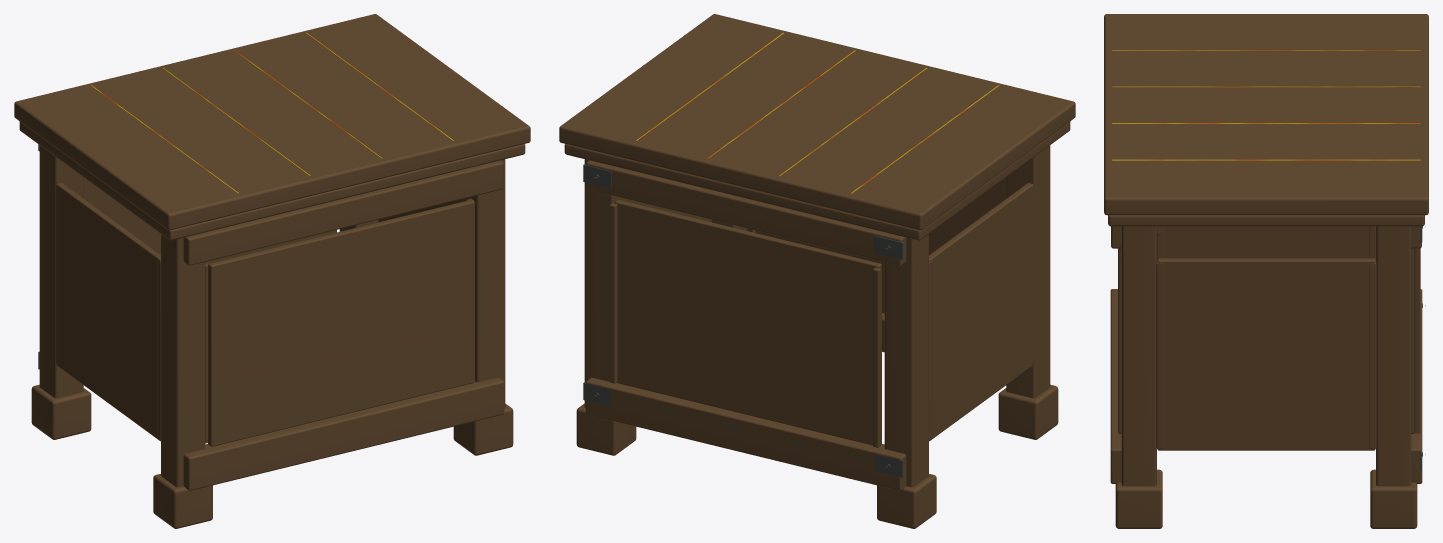
The model's file is seal-altar.fbx.
3 views of the same model, side by side, from view 1: azimuth 30°, elevation 25°; view 2: azimuth 150°, elevation 25°; view 3: azimuth 270°, elevation 25° (orthographic). The views are drawn at different scales.
Visible parts, largest first — view 1: seal-altar; view 2: seal-altar; view 3: seal-altar.
Part boxes in pixels (x1,y1,x2,y2): seal-altar: [14, 14, 530, 528]; seal-altar: [559, 14, 1075, 528]; seal-altar: [1104, 14, 1428, 528].
Bounding box in the file's own units: 81 × 68.95 × 60.
